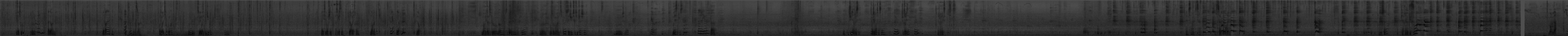Moan: (1313, 0, 1317, 36)
